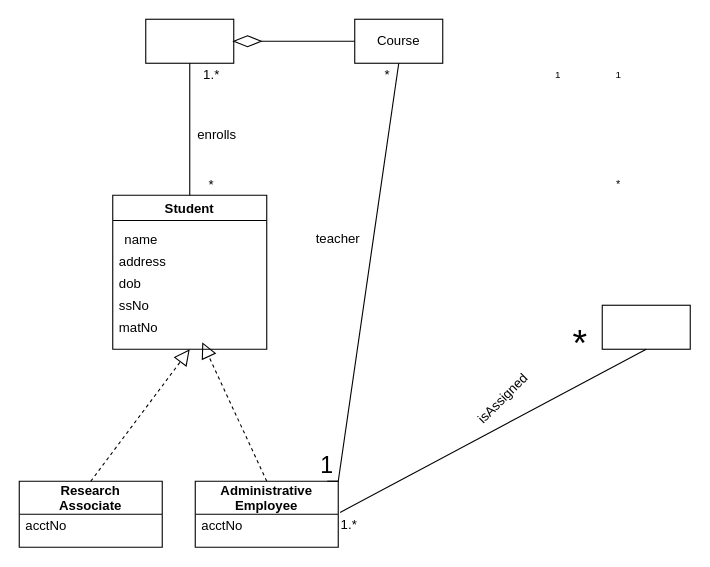
Image size: 710x567. Some labels were removed from this diagram. The shapes that lost their labels are listed below. From the top down, each one's centre as x and y in pixels, then its label:
(x=189, y=40): Study Program
(x=645, y=326): Faculty
